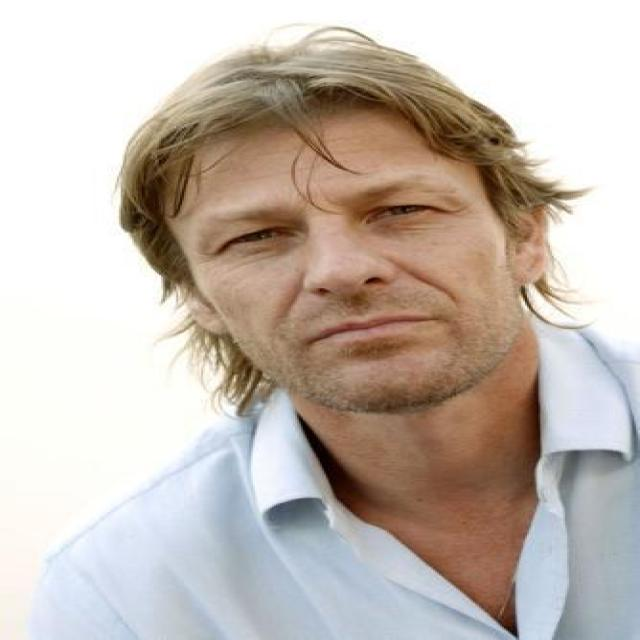0_rostro_limpio: (139, 74, 547, 428)
